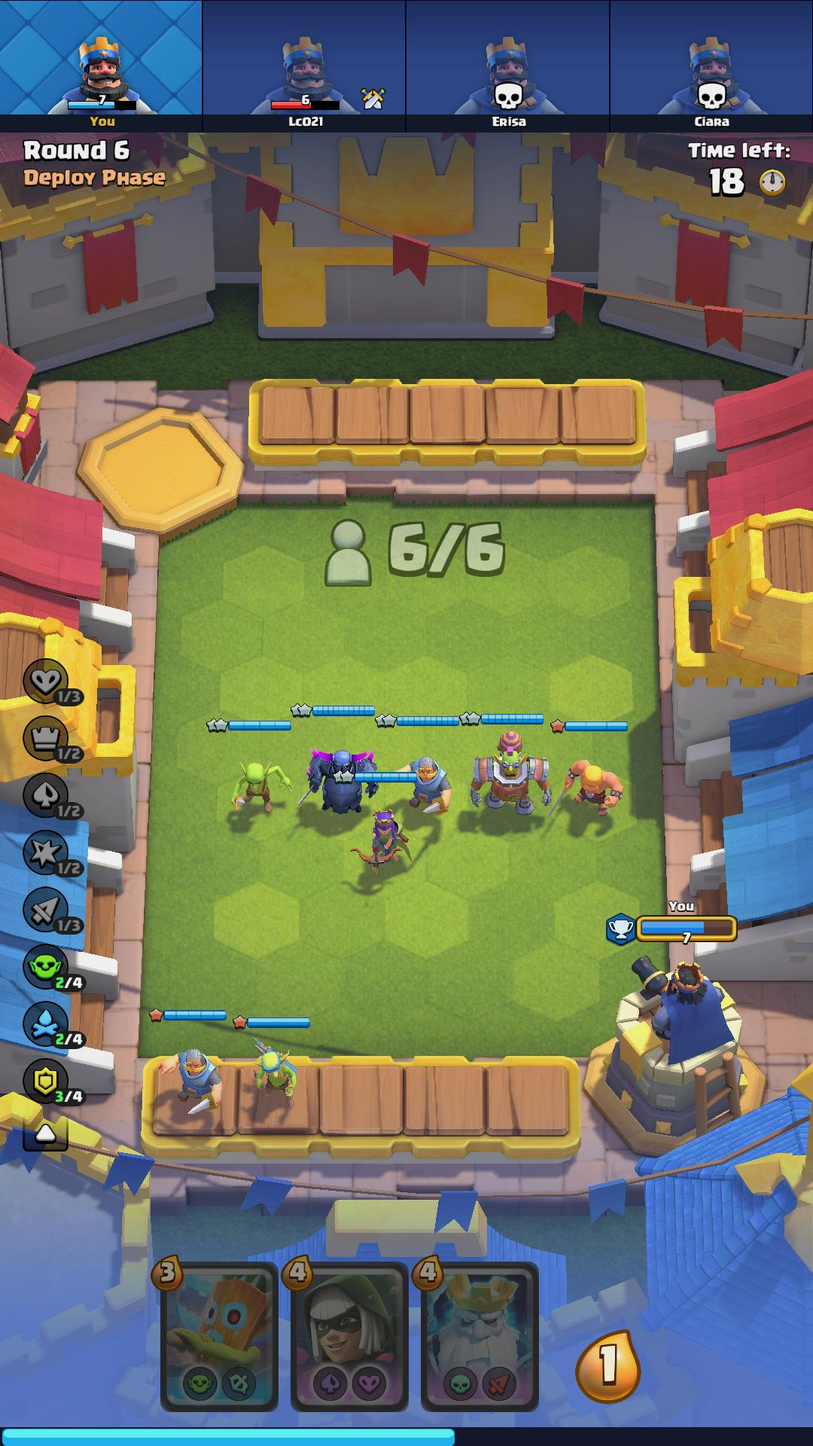barbarian: (552, 742, 634, 818)
goblin: (222, 744, 295, 817)
hand-bandit: (295, 1267, 409, 1410)
hand-dart: (167, 1265, 275, 1407)
hand-ghost: (420, 1265, 541, 1407)
knight: (384, 738, 457, 825), (164, 1032, 223, 1131)
machine: (468, 727, 550, 825)
pekka: (302, 728, 388, 817)
queen: (346, 801, 420, 874)
spear: (243, 1037, 301, 1107)
